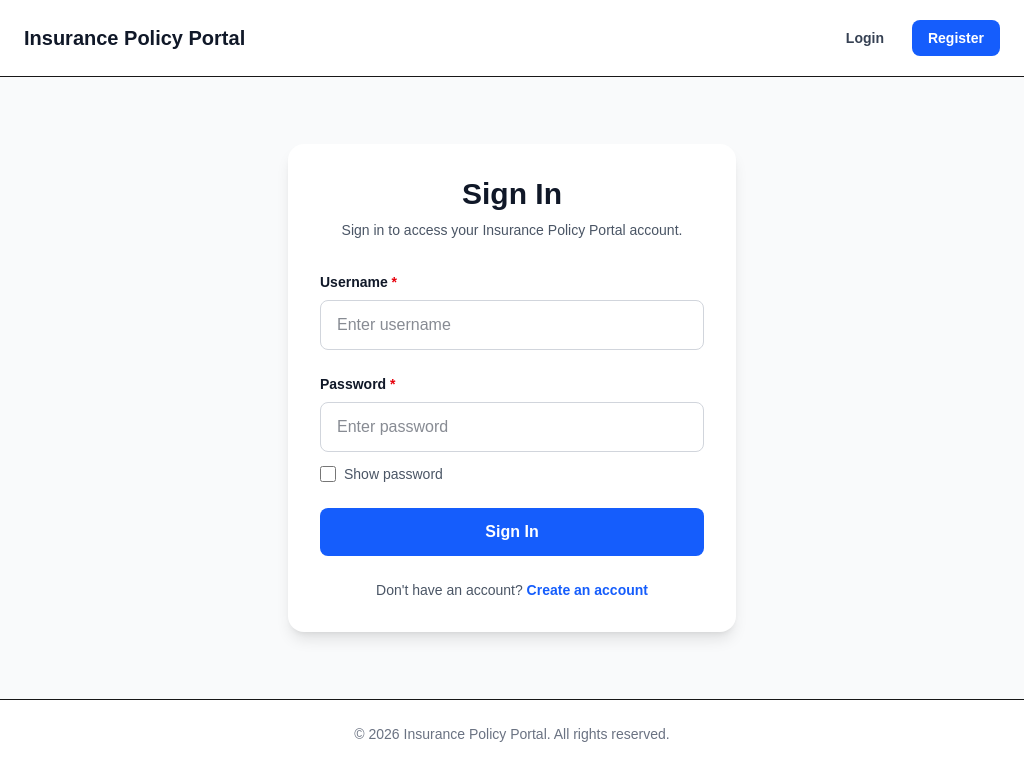
Test: LoginPage › should display password validation error when password is empty
The width and height of the screenshot is (1024, 768).
Type "testuser" into the field with placeholder "Enter username" at (512, 325), box [320,300,704,350]
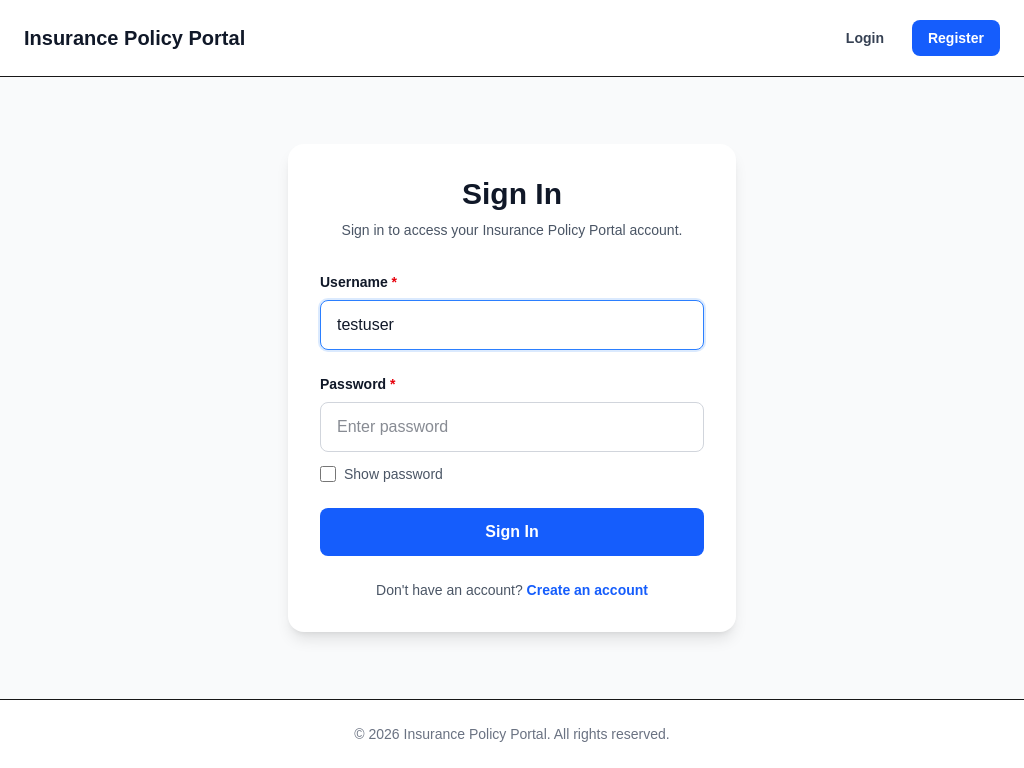
Click the button "Sign In" at (512, 532), box [320,508,704,556]
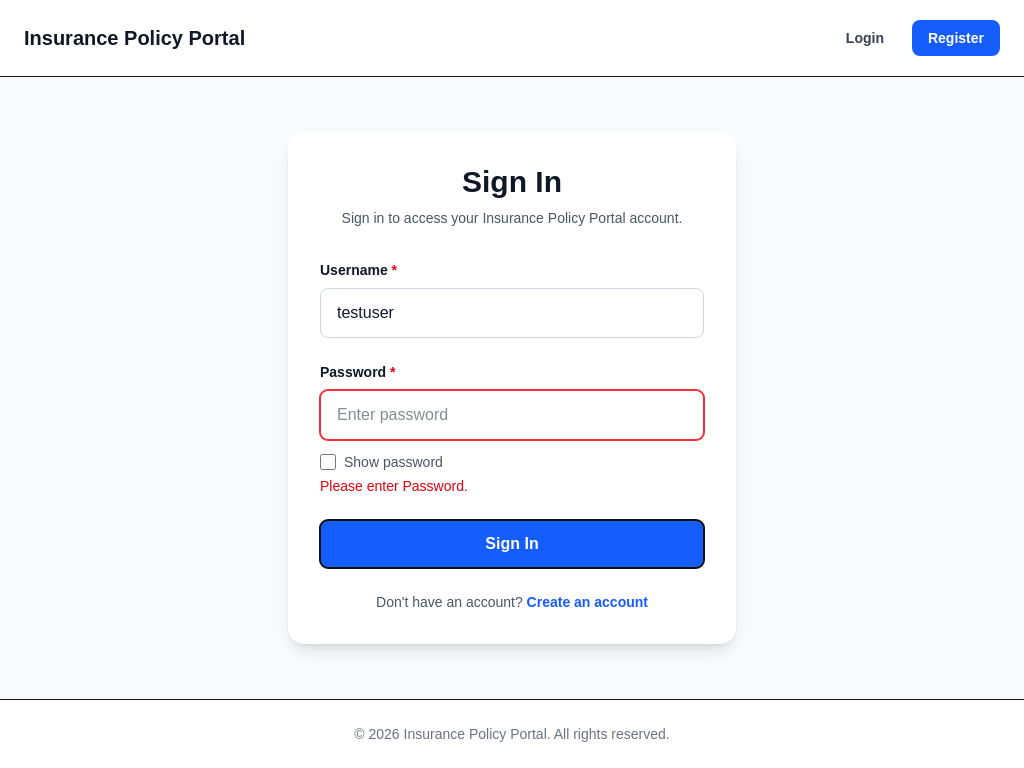
Result: the text "Please enter Password." is shown at [320,478,468,494]
